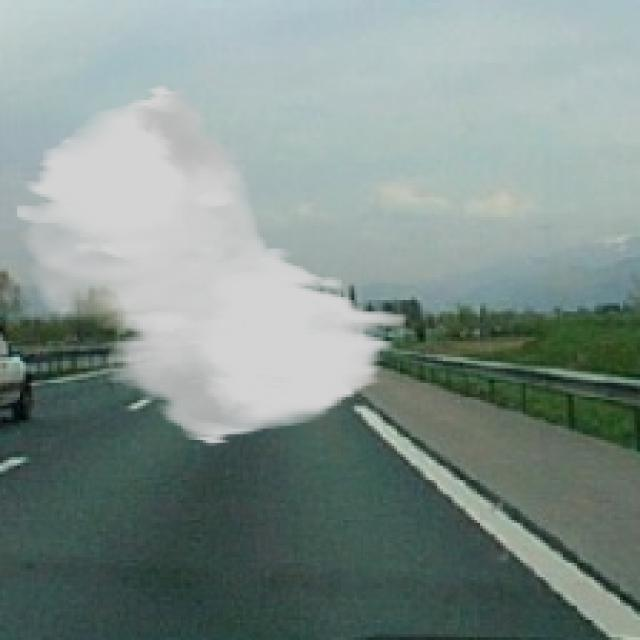smoke: (14, 83, 406, 446)
